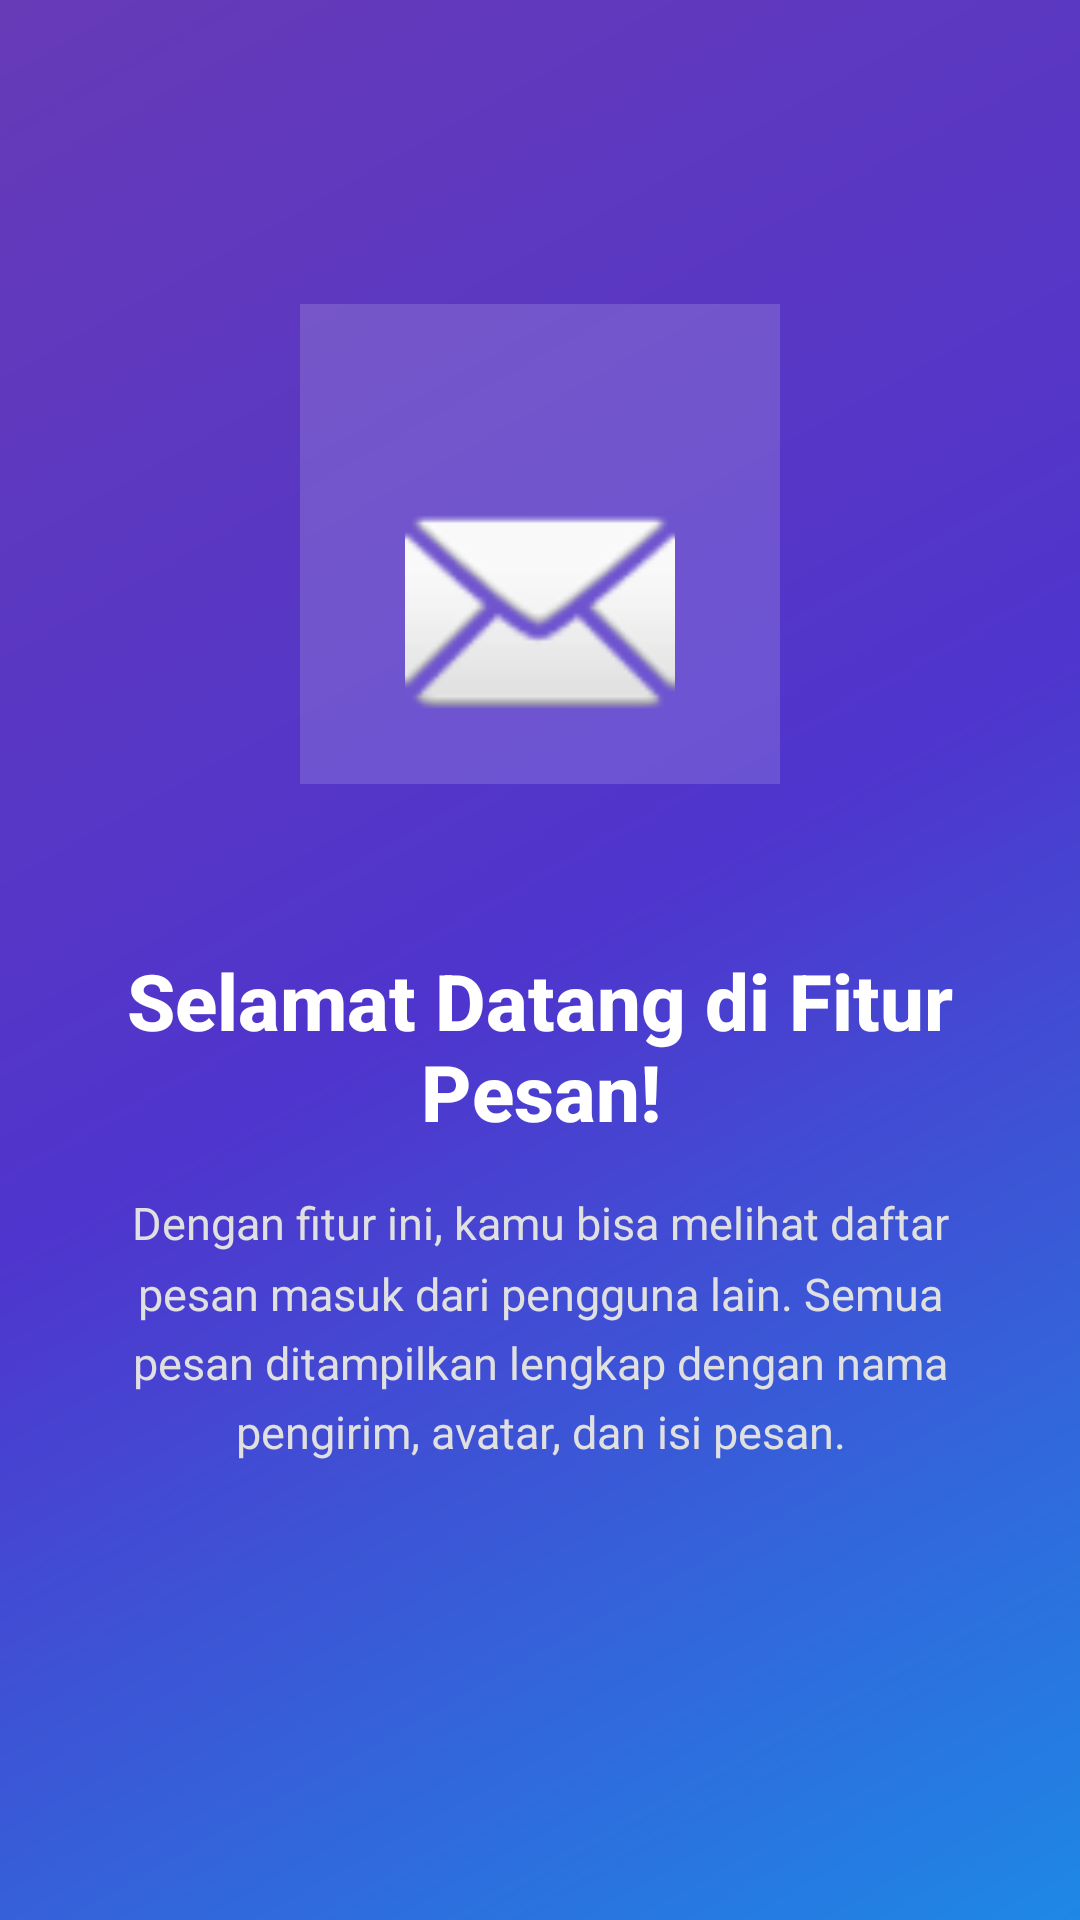

Locate icon controls on the screen. Image size 1080px x 1920px, boxes as (x1, y1, x2, y2).
Icon Pesan: (405, 517, 675, 707)
